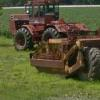Tractor: (8, 4, 100, 86)
